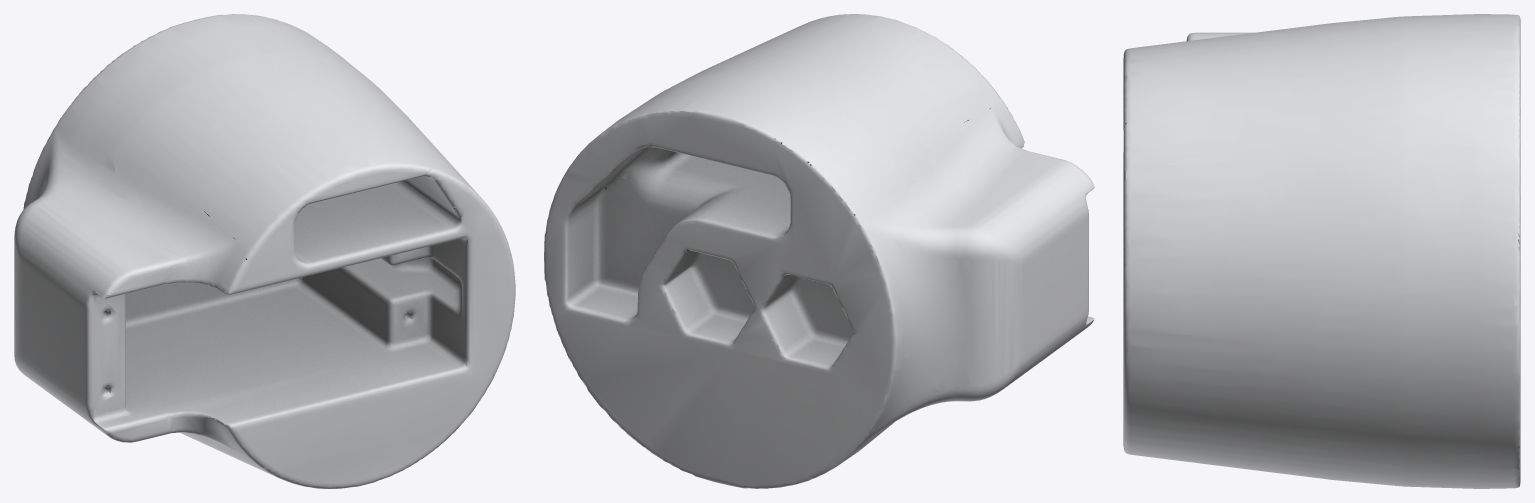
File: left_bisecp_upper.obj
3 renders of one model, left to right at view 1: azimuth 30°, elevation 25°; view 2: azimuth 150°, elevation 25°; view 3: azimuth 270°, elevation 25°, orthographic. The views are drawn at different scales.
Parts seen in each view (by area): view 1: left_bisecp_upper; view 2: left_bisecp_upper; view 3: left_bisecp_upper.
Part boxes in pixels (box(x1,y1,x2,y2)): left_bisecp_upper: box(14, 14, 515, 488); left_bisecp_upper: box(544, 14, 1094, 488); left_bisecp_upper: box(1123, 14, 1520, 488).
Bounding box in the file's own units: 0.0888 × 0.0756 × 0.0632.
Materials: 1 (1 with a texture image).
